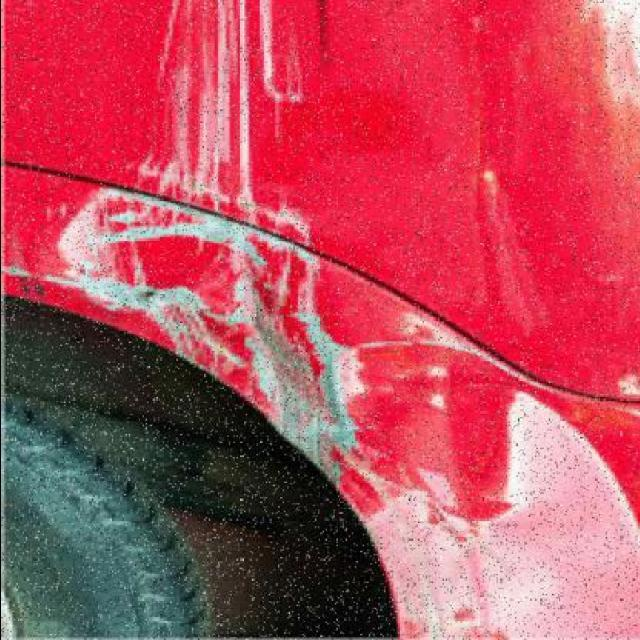quaterpanel-dent: (7, 308, 628, 639)
